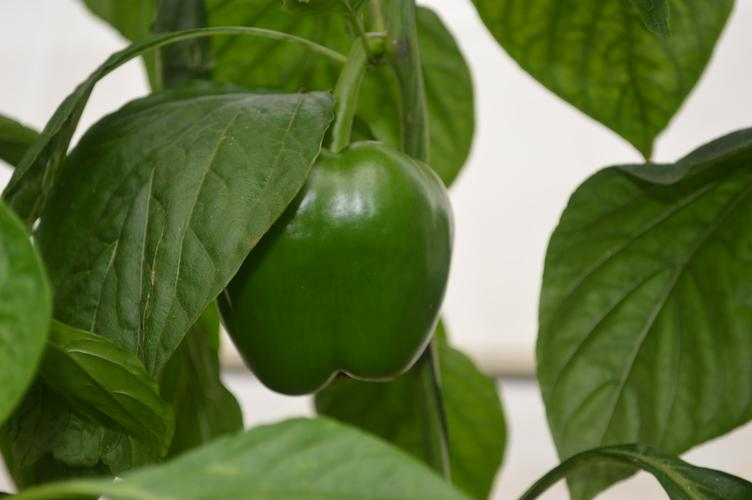BellPepper: (213, 143, 450, 394)
